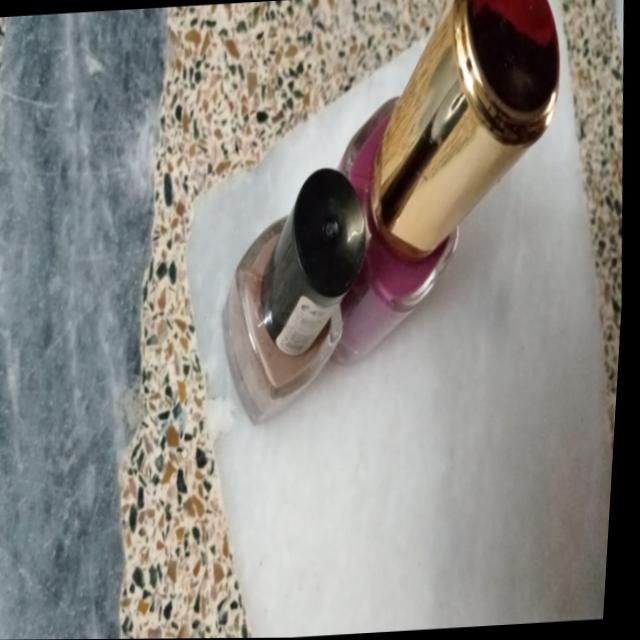nail polish: (198, 0, 570, 472)
